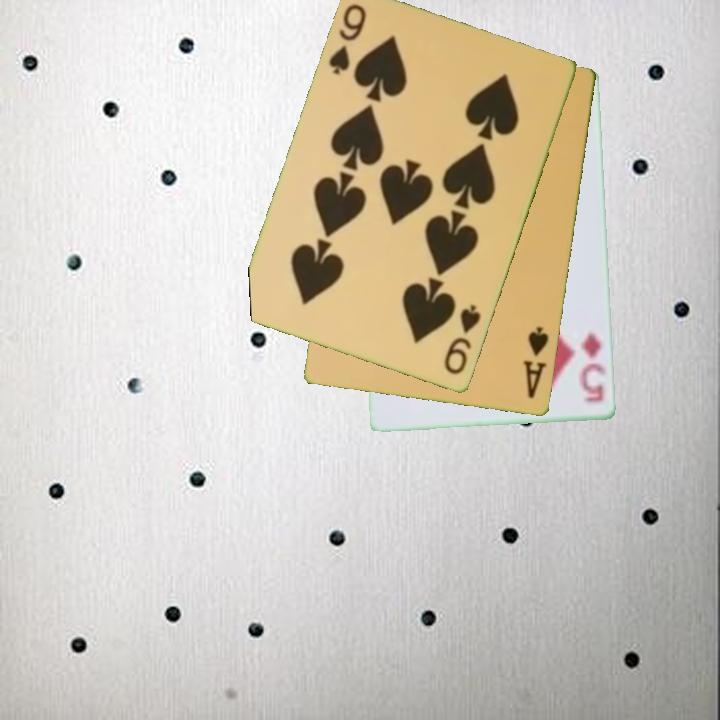5d: (576, 330, 608, 406)
9s: (325, 1, 370, 79), (440, 301, 485, 378)
As: (521, 324, 552, 402)
